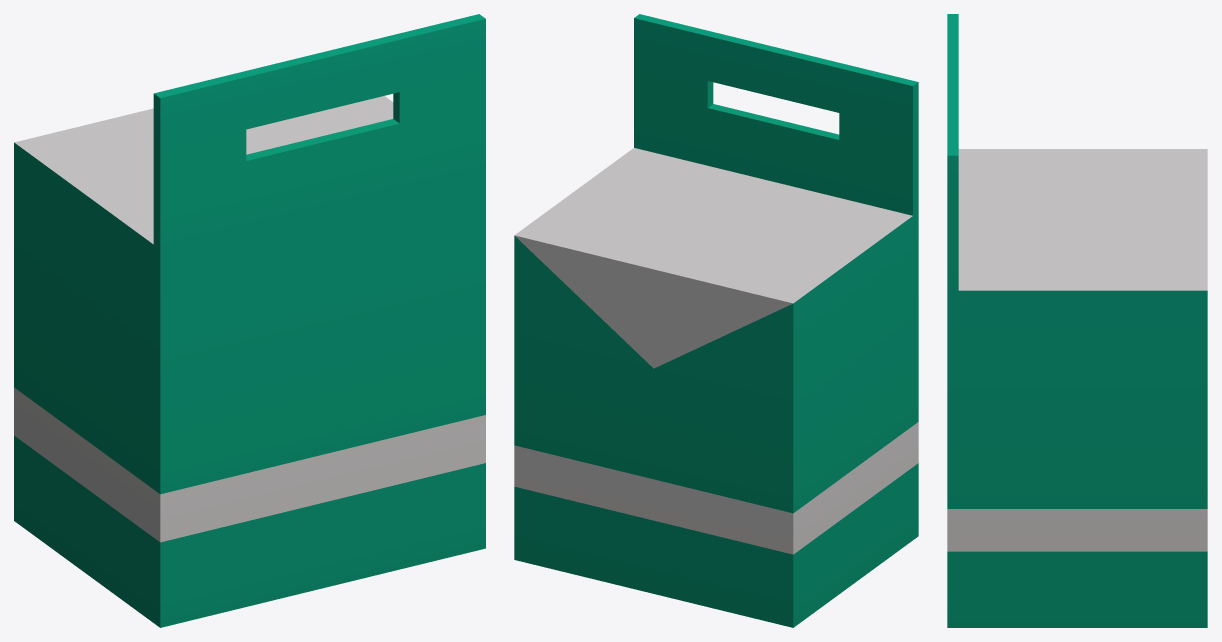
The model's file is Pfb_JLAB_Box__2.fbx.
The picture shows the model from 3 angles, left to right: view 1: azimuth 30°, elevation 25°; view 2: azimuth 150°, elevation 25°; view 3: azimuth 270°, elevation 25°; orthographic projection. The views are drawn at different scales.
Parts seen in each view (by area): view 1: Color; view 2: Color; view 3: Color.
Part boxes in pixels (box(x1,y1,x2,y2)): Color: box(14, 14, 485, 627); Color: box(514, 14, 918, 627); Color: box(947, 14, 1207, 627).
Size of the model in its own units: 0.09 by 0.14 by 0.07.
Materials: 1 (1 with a texture image).
